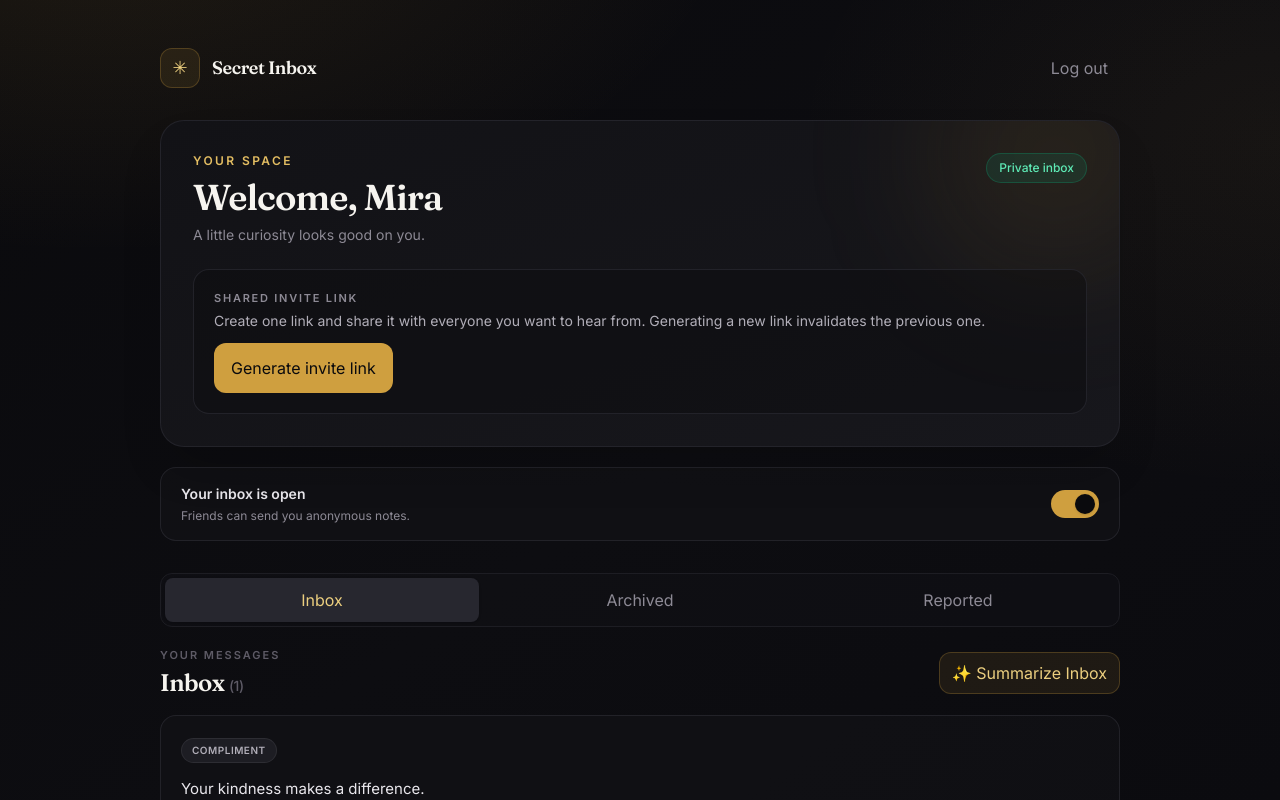
Test: inbox dashboard › switches the selected message tab
Expected: the text "Your kindness makes a difference." is shown, x1=181 y1=779 x2=425 y2=798
Click the button "Archived" at [640, 600], box x1=483 y1=578 x2=797 y2=622
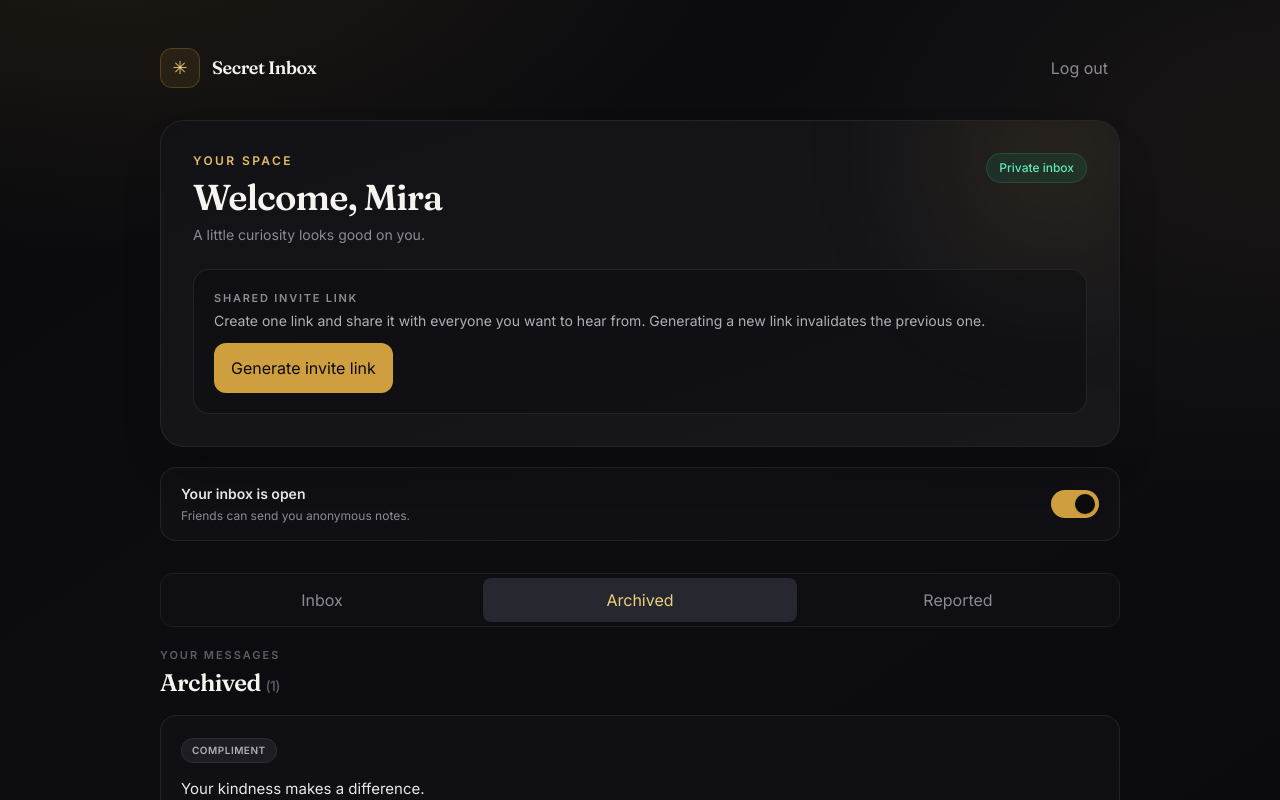
Expected: the heading "Archived (1)" is shown, x1=160 y1=667 x2=280 y2=699
